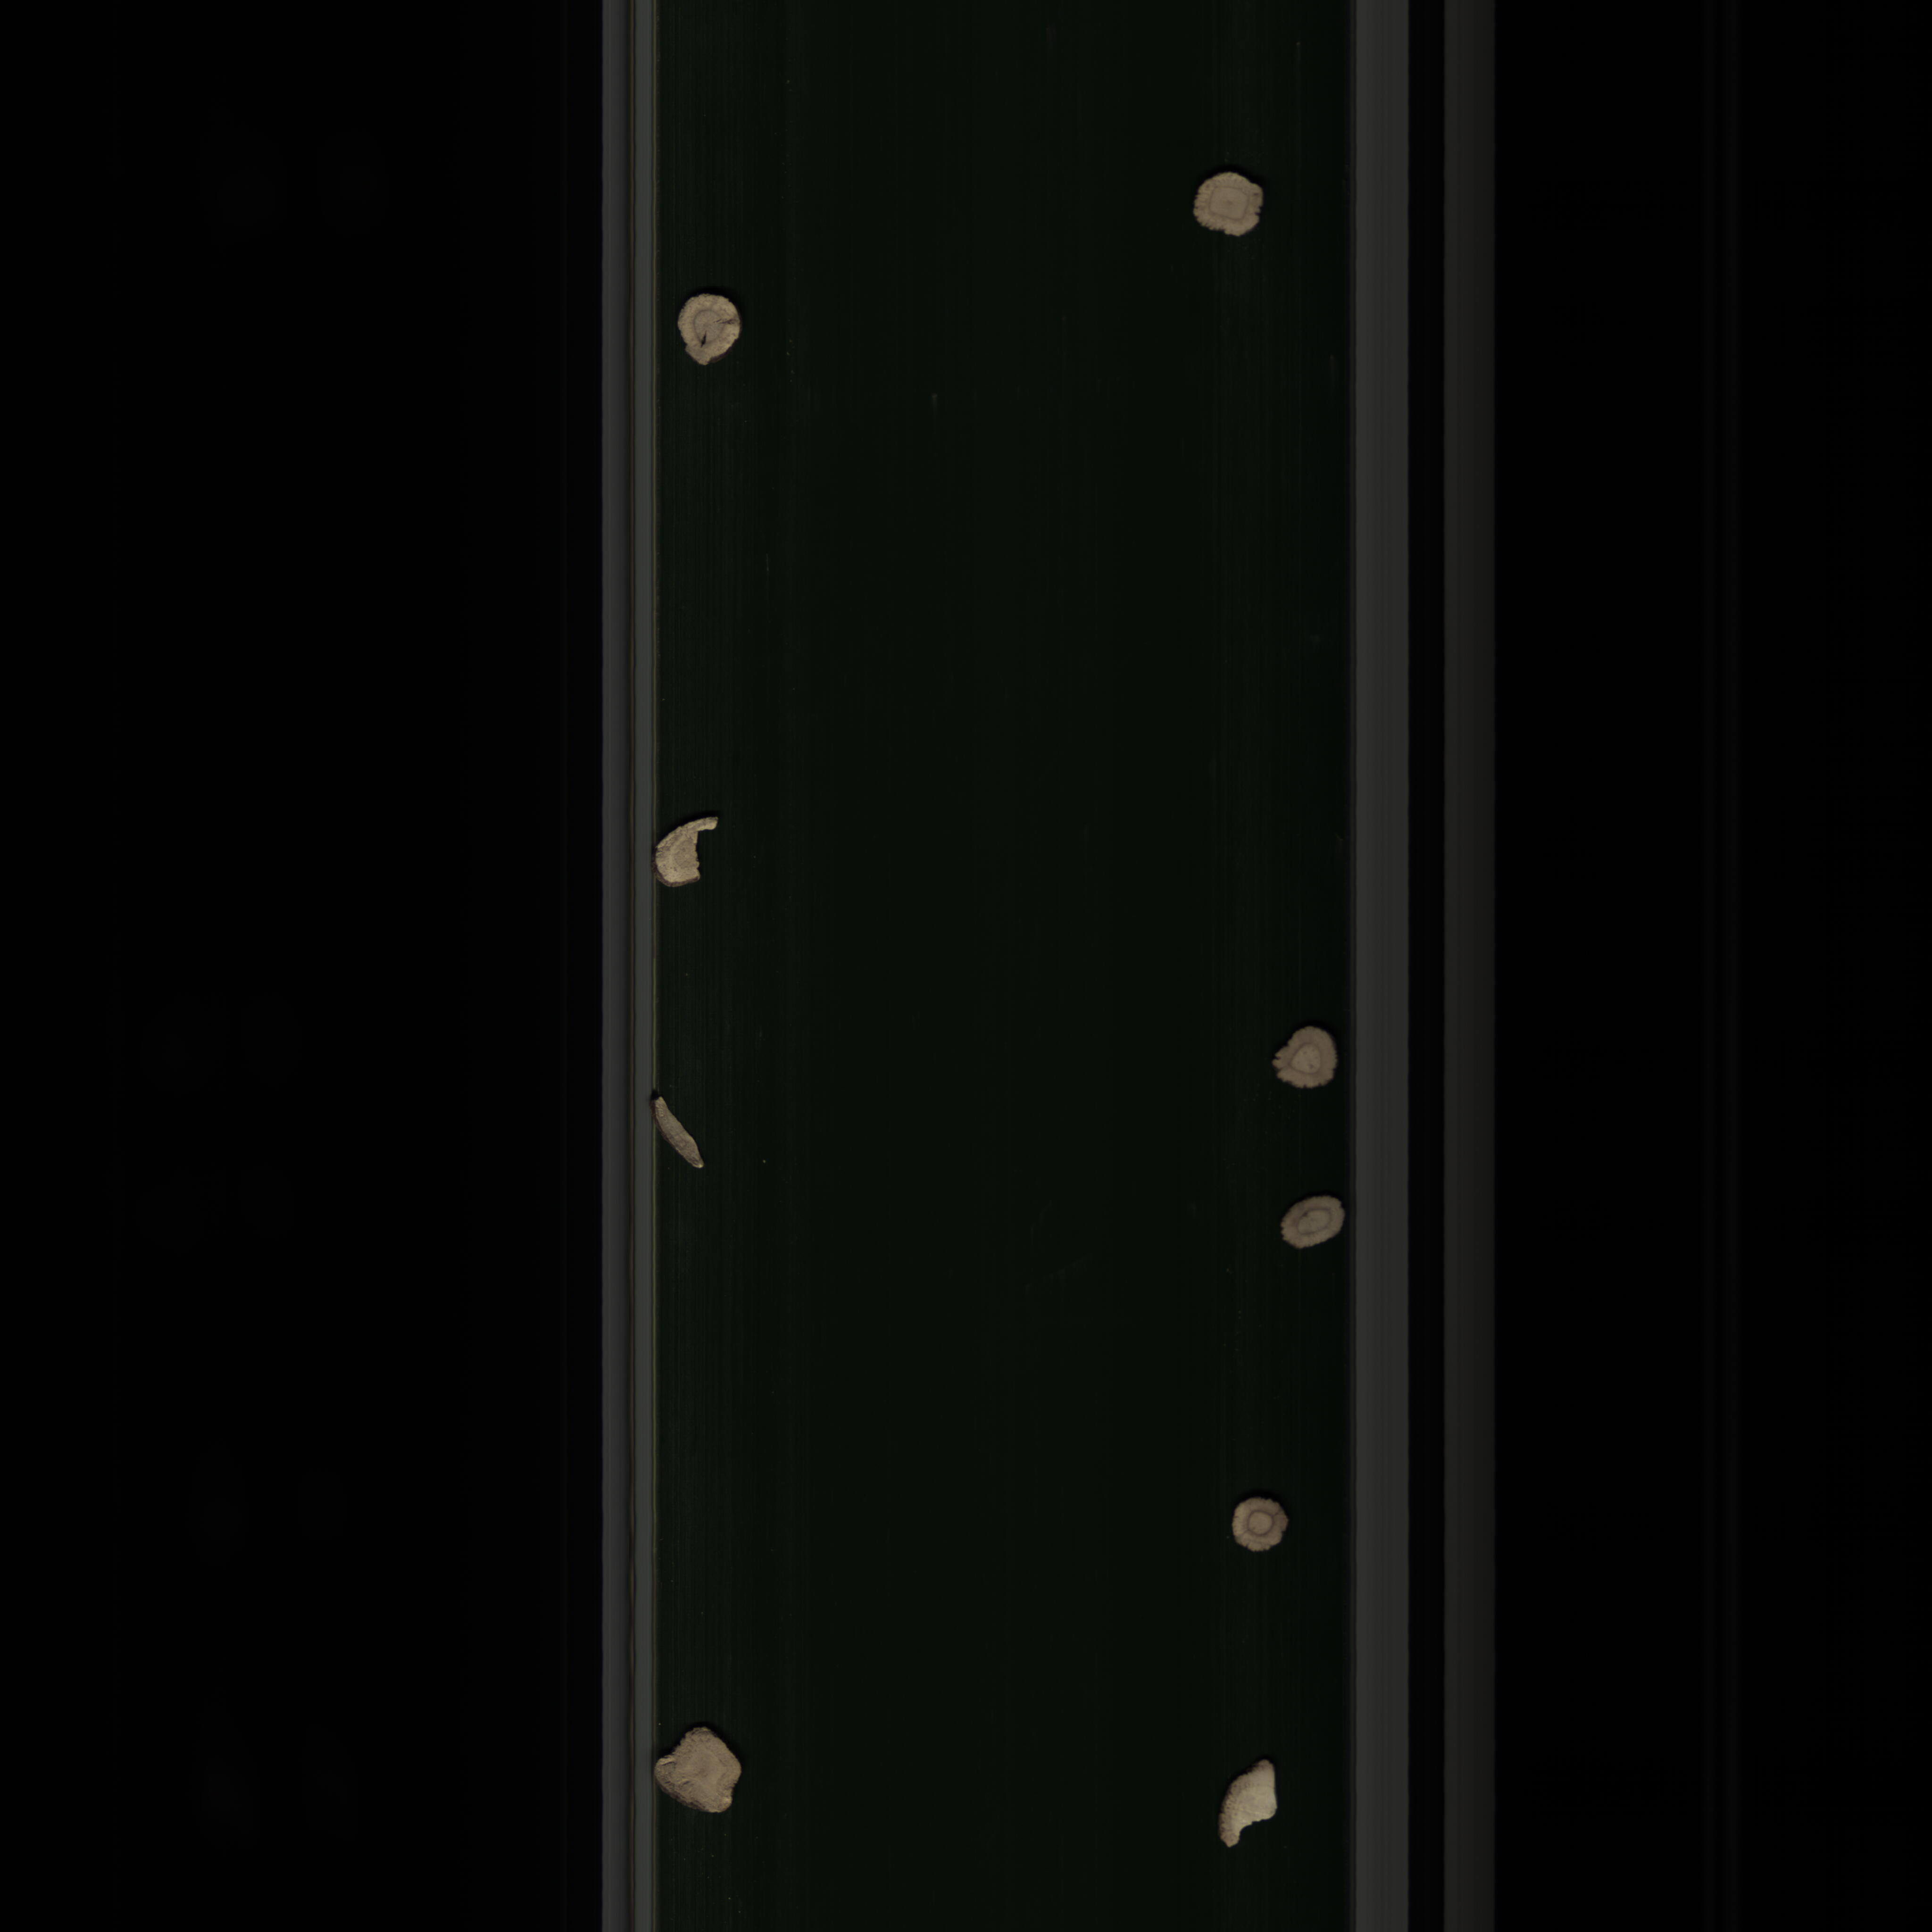bark: (651, 1088, 724, 1185)
debris: (1208, 1748, 1302, 1868), (656, 809, 755, 893)
distortion: (648, 1709, 752, 1828)
hole: (671, 290, 755, 373)
